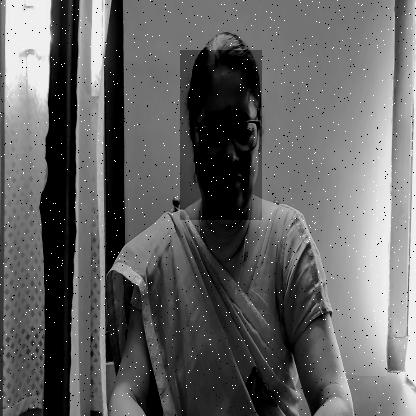Normal: (180, 50, 262, 220)
